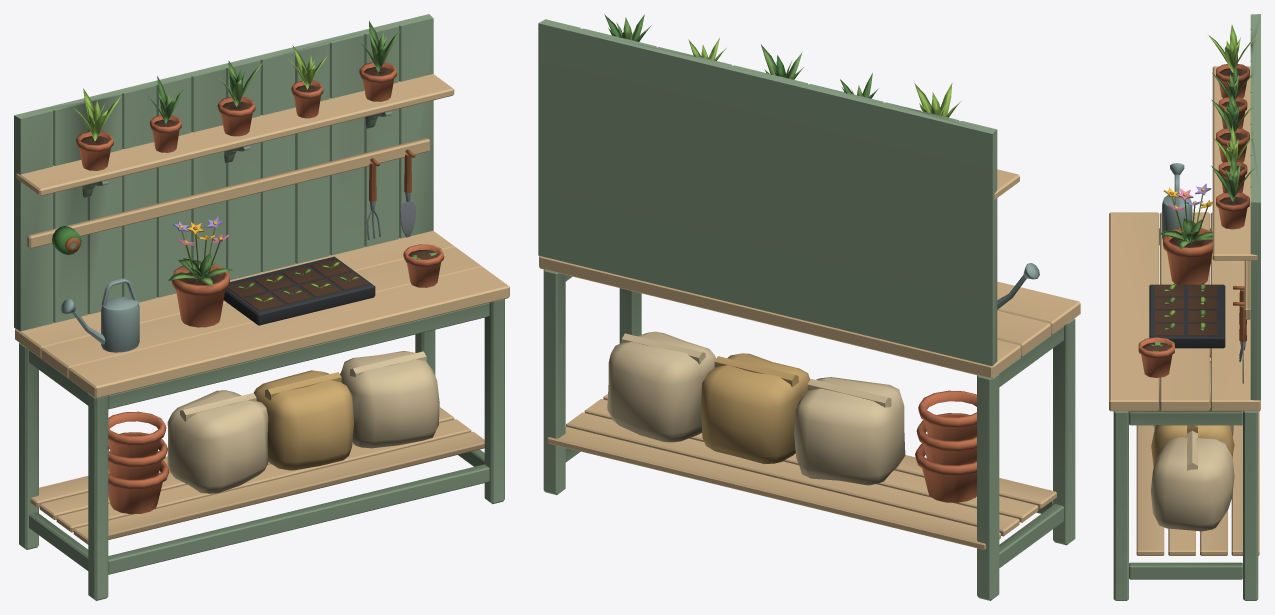
Rendered from pottingBench.glb.
3 renders of one model, left to right at view 1: azimuth 30°, elevation 25°; view 2: azimuth 150°, elevation 25°; view 3: azimuth 270°, elevation 25°, orthographic. The views are drawn at different scales.
Parts seen in each view (by area): view 1: body; view 2: body; view 3: body.
Boxes of the visible parts, bbox=[...] form: body: bbox=[14, 14, 509, 600]; body: bbox=[538, 14, 1080, 600]; body: bbox=[1109, 14, 1260, 600].
Bounding box in the file's own units: 1.76 × 1.79 × 0.598.
